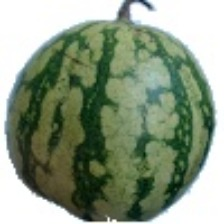watermelon: (14, 5, 178, 182)
